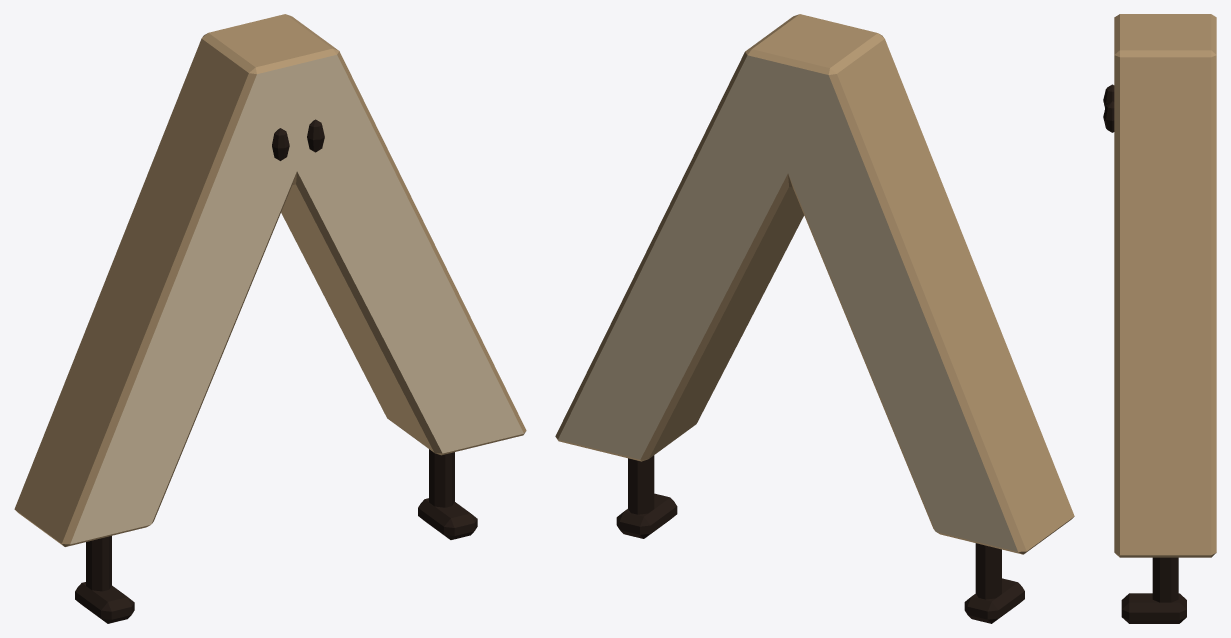
The model's file is siot.glb.
The picture shows the model from 3 angles, left to right: view 1: azimuth 30°, elevation 25°; view 2: azimuth 150°, elevation 25°; view 3: azimuth 270°, elevation 25°; orthographic projection. The views are drawn at different scales.
Visible parts, largest first — view 1: Glyph, Leg_R, Leg_L; view 2: Glyph, Leg_R, Leg_L; view 3: Glyph, Leg_R, Eye_R, Eye_L.
Part boxes in pixels (bbox=[...]): Glyph: bbox=[14, 14, 526, 546]; Leg_R: bbox=[418, 449, 477, 539]; Leg_L: bbox=[75, 536, 134, 623]; Glyph: bbox=[555, 14, 1074, 554]; Leg_R: bbox=[616, 455, 677, 538]; Leg_L: bbox=[964, 543, 1024, 623]; Glyph: bbox=[1114, 14, 1216, 557]; Leg_R: bbox=[1121, 557, 1186, 623]; Eye_R: bbox=[1103, 101, 1114, 132]; Eye_L: bbox=[1103, 84, 1114, 108].
Size of the model in its own units: 0.5557 by 0.6 by 0.122.
